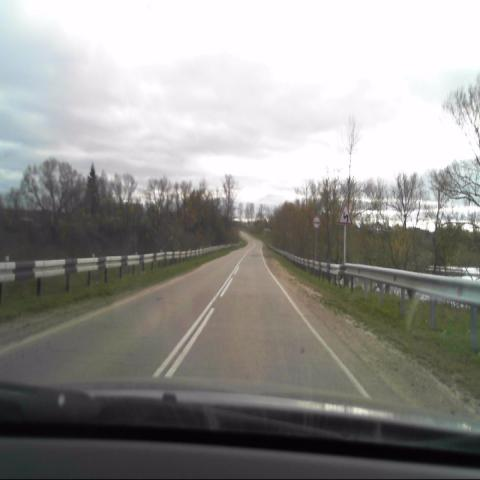1_12_2: (338, 202, 352, 224)
